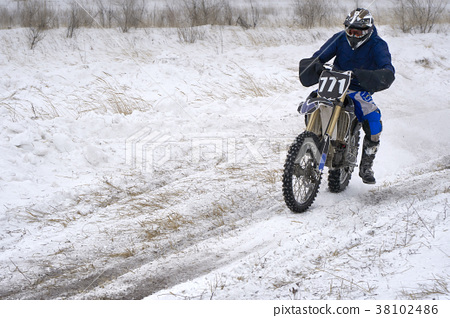helmet: (343, 8, 375, 51)
